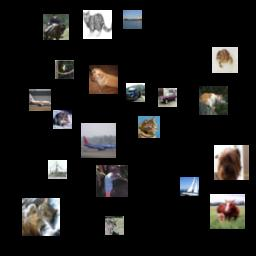airplane: (81, 123, 116, 158), (29, 89, 51, 111)
automobile: (158, 88, 177, 107)
bird: (96, 165, 128, 197), (55, 60, 74, 79)
cat: (22, 198, 60, 236), (83, 10, 112, 39), (199, 86, 228, 115), (138, 116, 160, 138)
deer: (105, 216, 124, 235)
dog: (214, 145, 249, 180), (89, 65, 118, 94)
frog: (212, 47, 238, 73), (53, 110, 72, 129)
ship: (180, 177, 199, 196), (48, 160, 67, 179), (123, 10, 142, 29)
truck: (126, 83, 145, 102)
